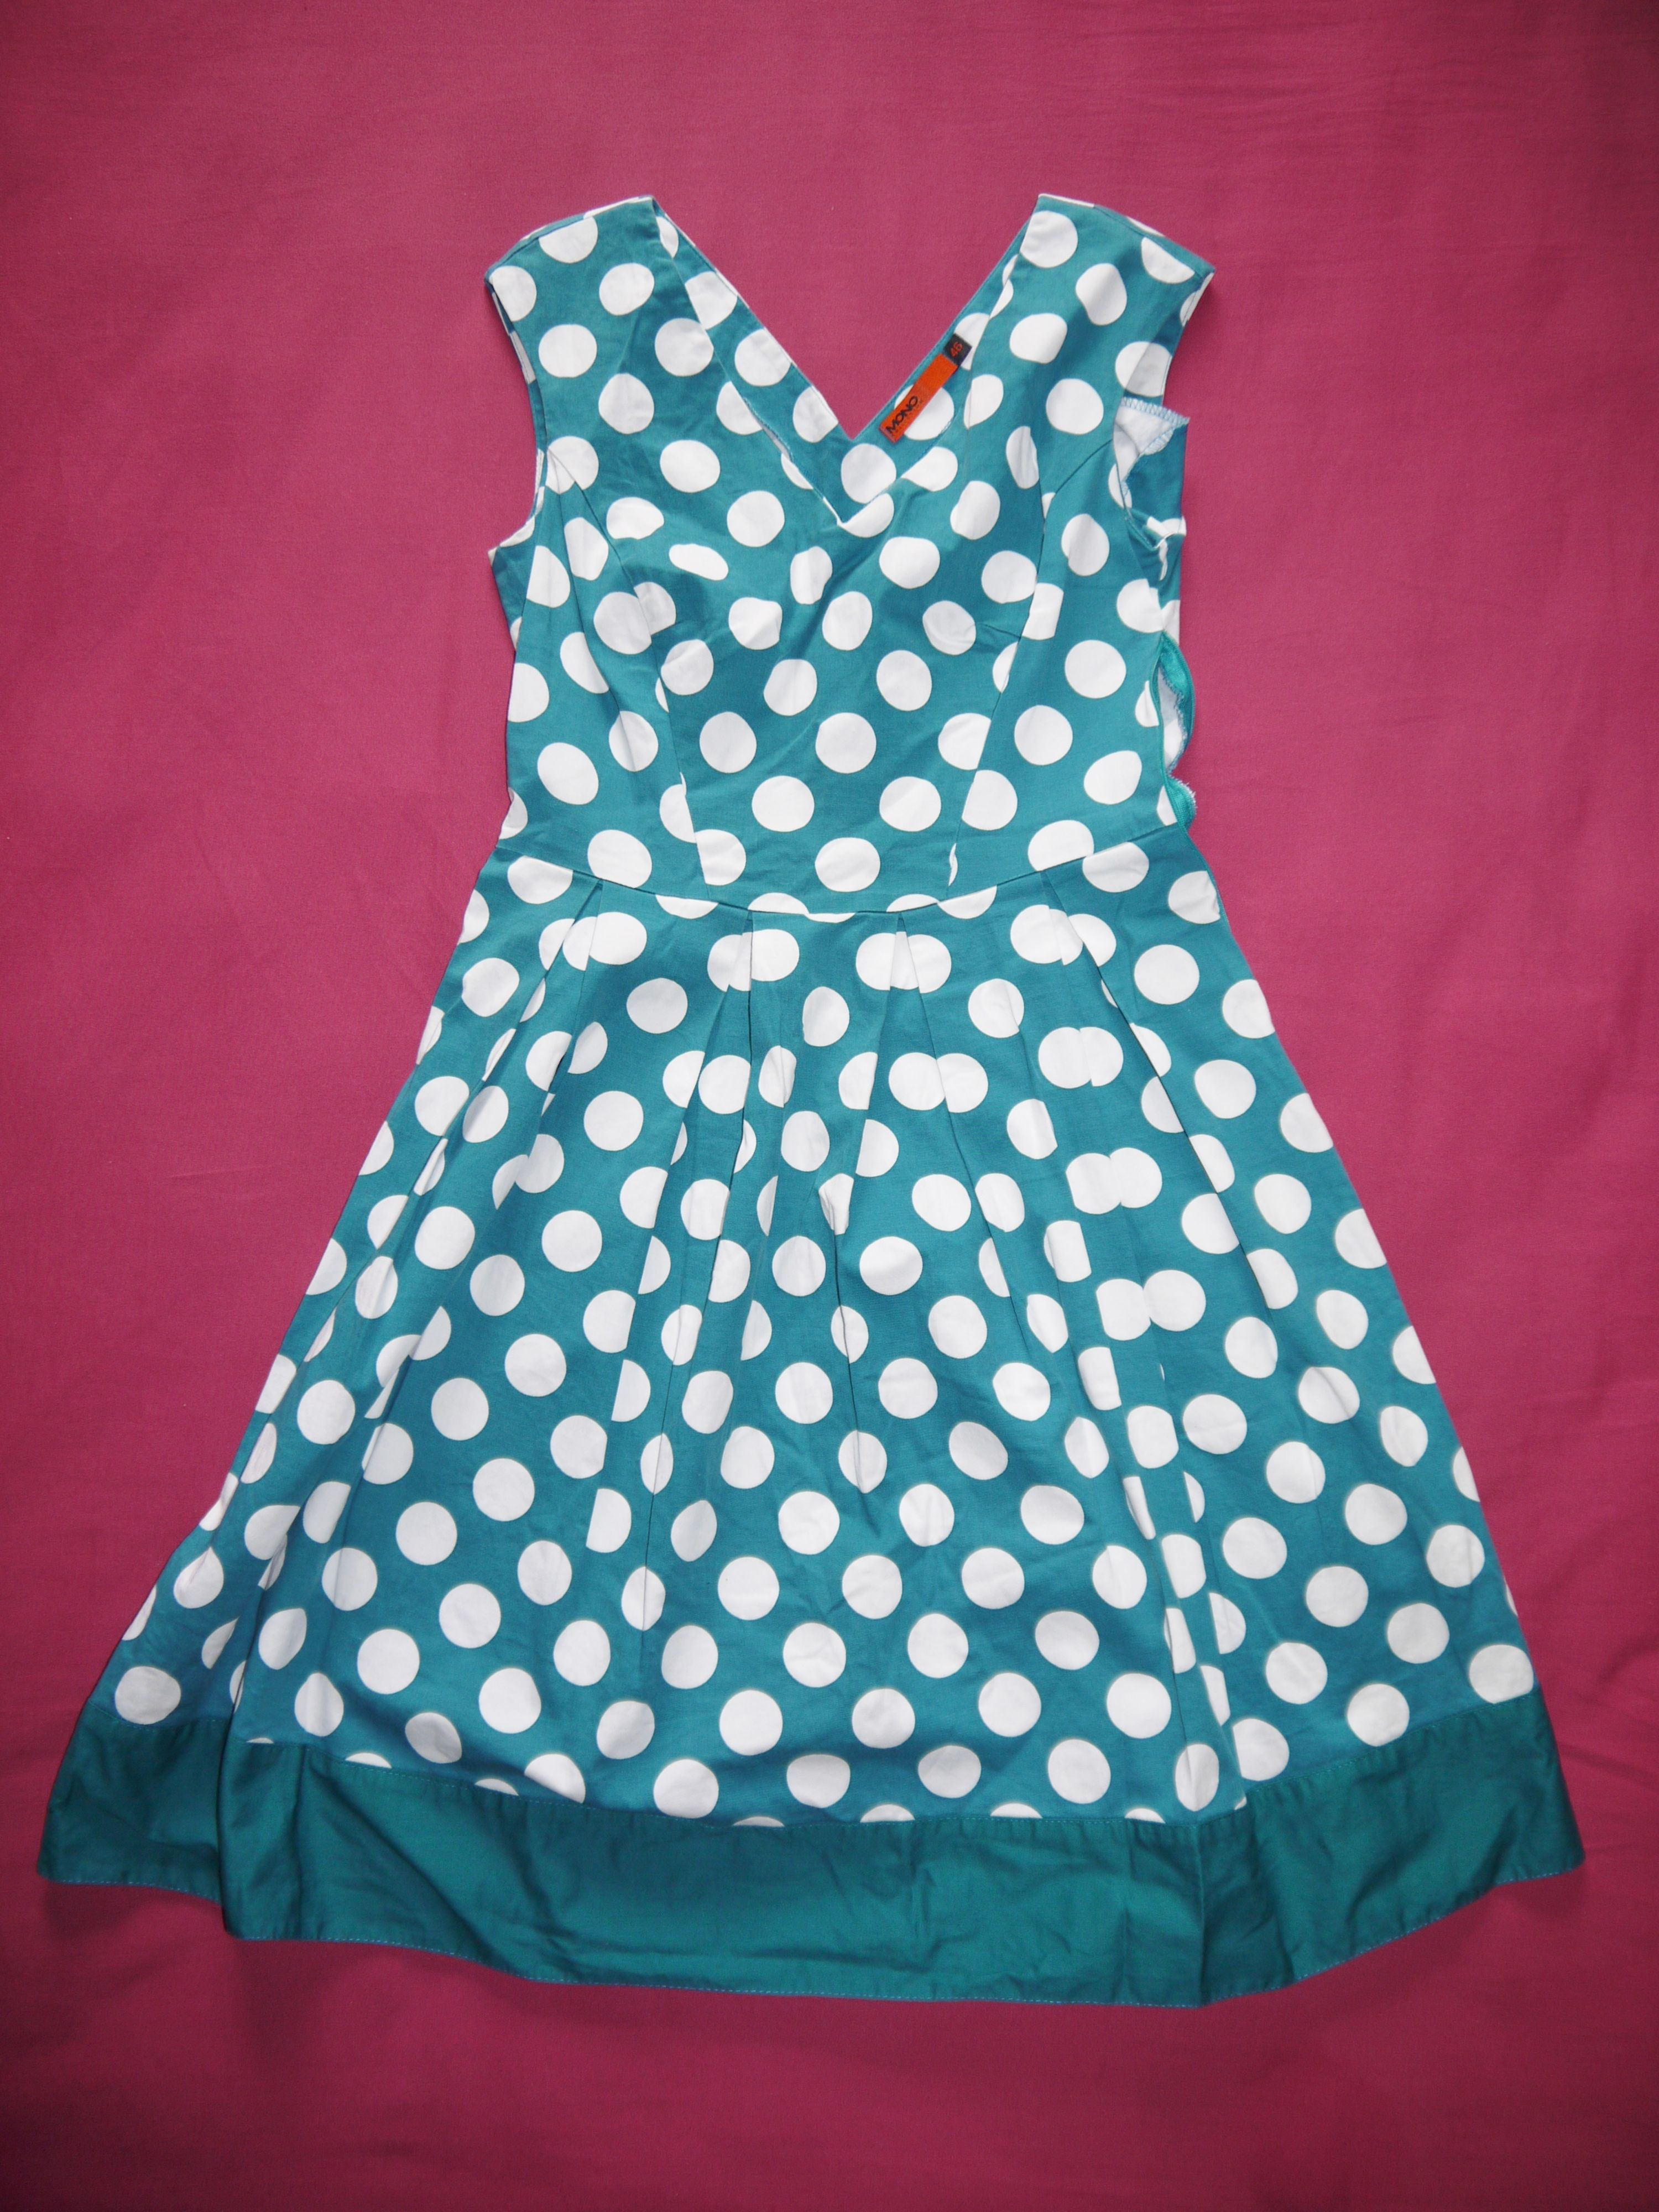clothes: (35, 153, 1605, 2010)
